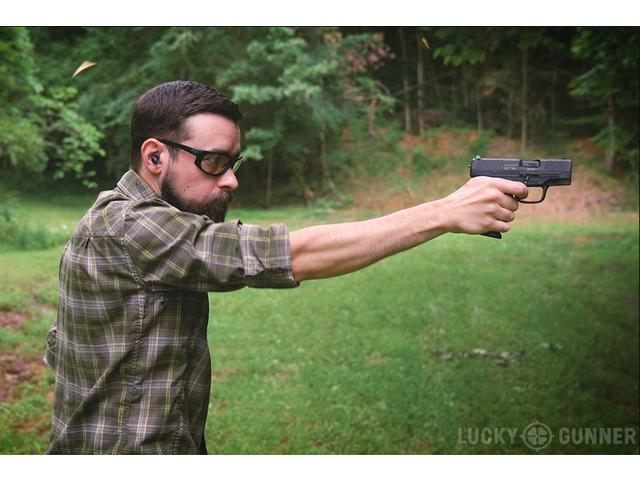pistol: (465, 153, 574, 244)
